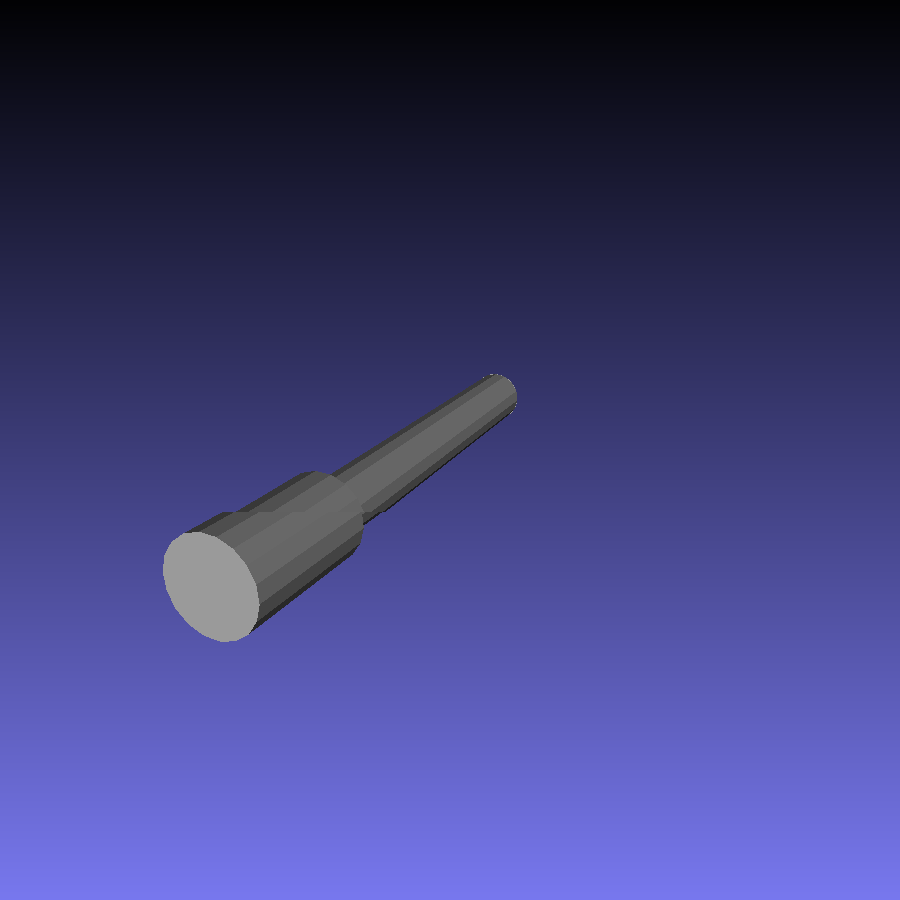cargo_g: (164, 369, 518, 642)
